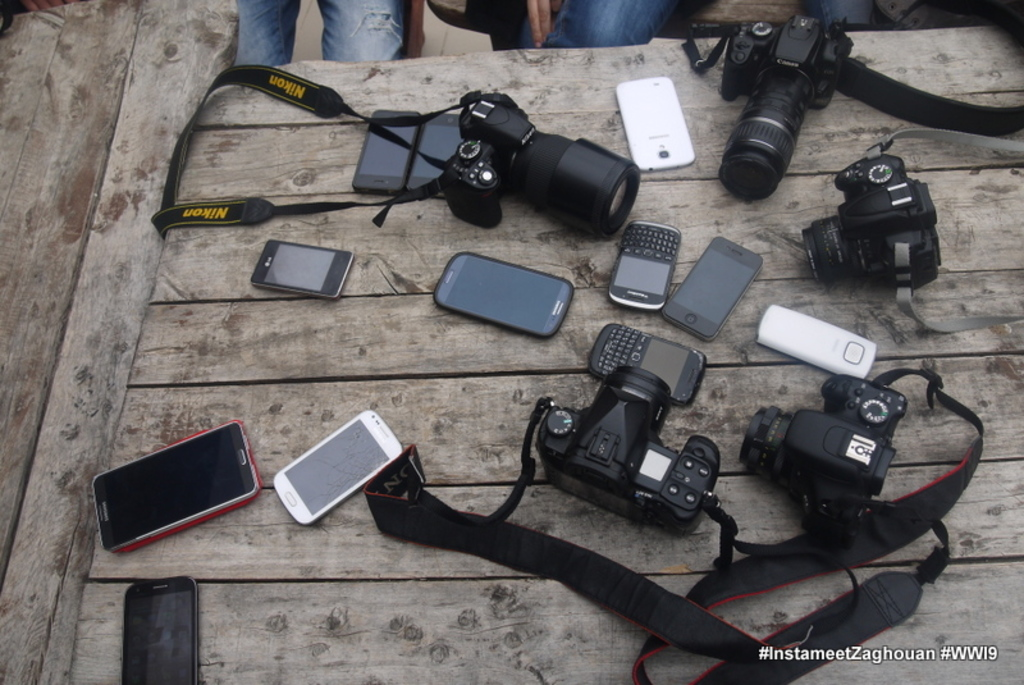Mobile-phone: (88, 420, 268, 554), (273, 410, 407, 526), (433, 252, 573, 338), (662, 234, 762, 342), (585, 320, 708, 402), (756, 305, 877, 379), (122, 576, 196, 684), (616, 73, 695, 170), (250, 236, 353, 303), (605, 222, 681, 310), (352, 104, 422, 191), (406, 114, 454, 193)
